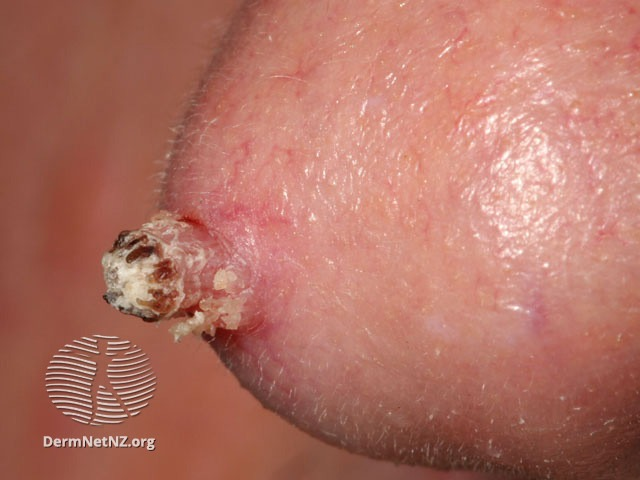Warts: (94, 199, 265, 347)
